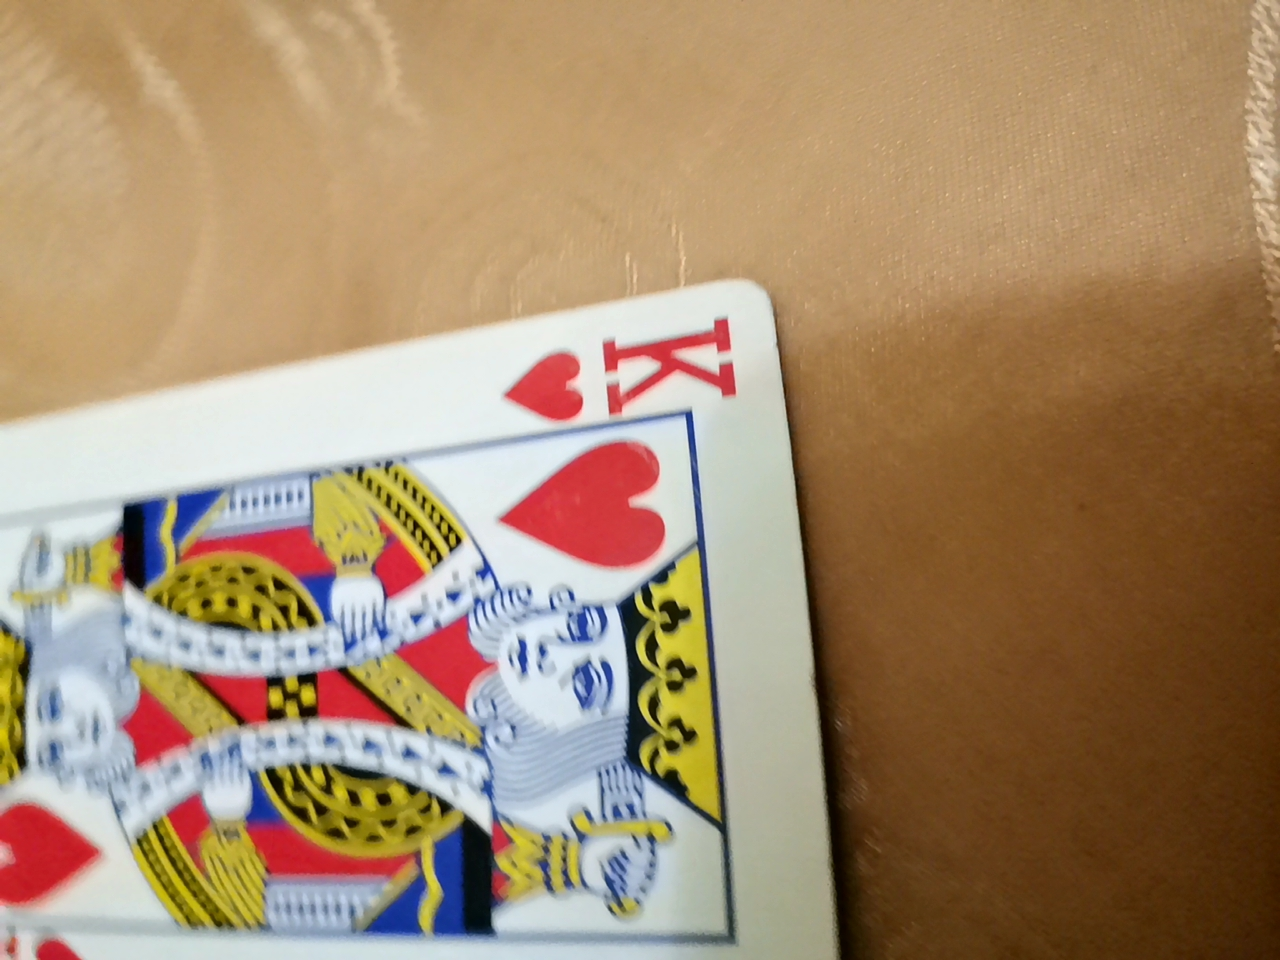hx k: (13, 320, 869, 960)
